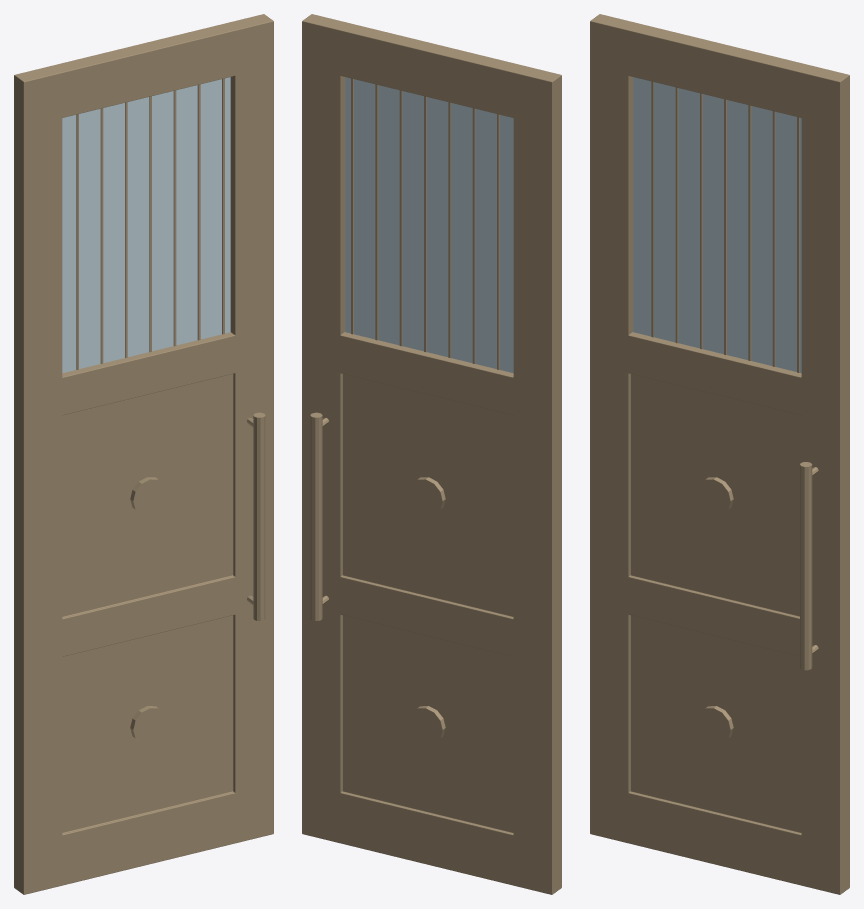
The model's file is door_leaf_bronze.glb.
3 views of the same model, side by side, from view 1: azimuth 30°, elevation 25°; view 2: azimuth 150°, elevation 25°; view 3: azimuth 330°, elevation 25° (orthographic).
Parts seen in each view (by area): view 1: door_leaf_bronze_bronze, door_leaf_bronze_glass; view 2: door_leaf_bronze_bronze, door_leaf_bronze_glass; view 3: door_leaf_bronze_bronze, door_leaf_bronze_glass.
Boxes of the visible parts, x1,y1,x2,y2 form: door_leaf_bronze_bronze: (14, 14, 273, 894); door_leaf_bronze_glass: (62, 77, 230, 373); door_leaf_bronze_bronze: (302, 14, 561, 894); door_leaf_bronze_glass: (345, 77, 513, 373); door_leaf_bronze_bronze: (590, 14, 849, 894); door_leaf_bronze_glass: (633, 77, 801, 373).
Bounding box in the file's own units: 1.03 × 3.2 × 0.2518.
